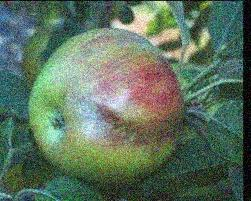rotten apple: (27, 27, 192, 182)
